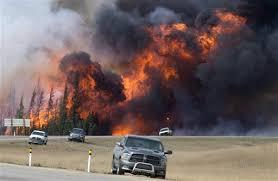fire: (114, 6, 249, 134), (27, 63, 98, 127)
yanwu: (16, 1, 278, 114)
